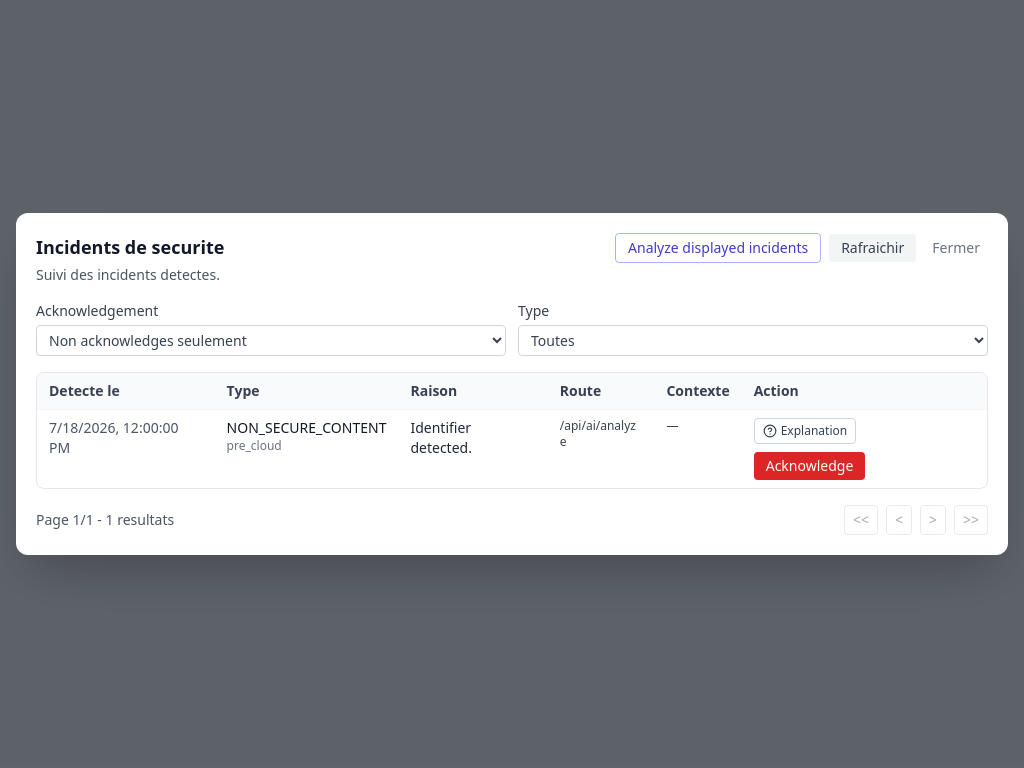
Test case: SecurityIncidentsModal › explains a pre-cloud PHI incident without displaying its detected value
The image size is (1024, 768).
Click the button "Explanation".
click(805, 431)  # box top-left (754, 418), bottom-right (856, 444)
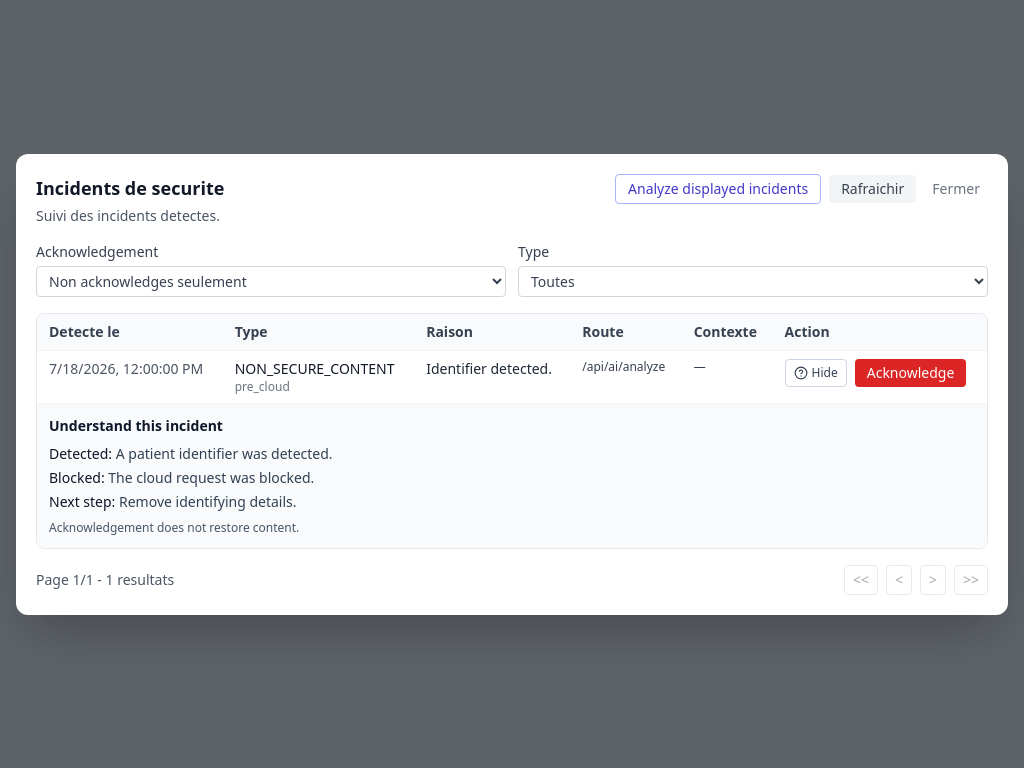
expect the heading "Understand this incident" is shown: met, box top-left (49, 416), bottom-right (223, 434)
expect the text "A patient identifier was detected." is shown: met, box top-left (116, 444), bottom-right (333, 462)
expect the text "The cloud request was blocked." is shown: met, box top-left (108, 468), bottom-right (314, 486)
